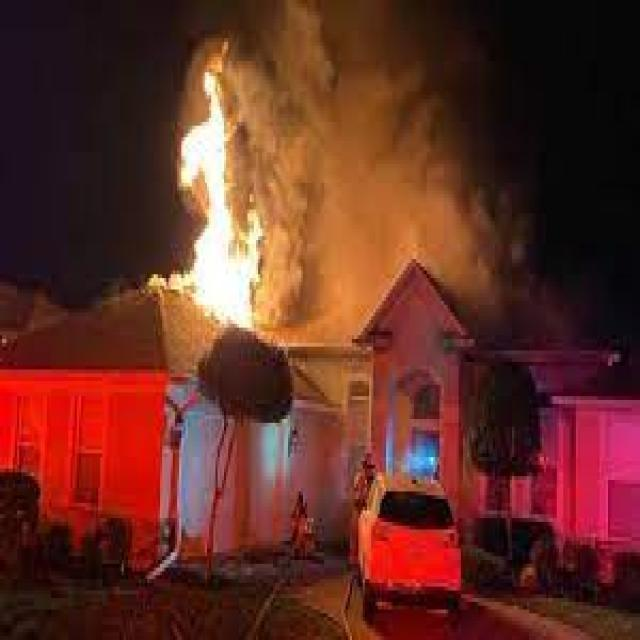Fire: (188, 97, 270, 335)
Smoke: (248, 11, 519, 257), (255, 219, 374, 330)
